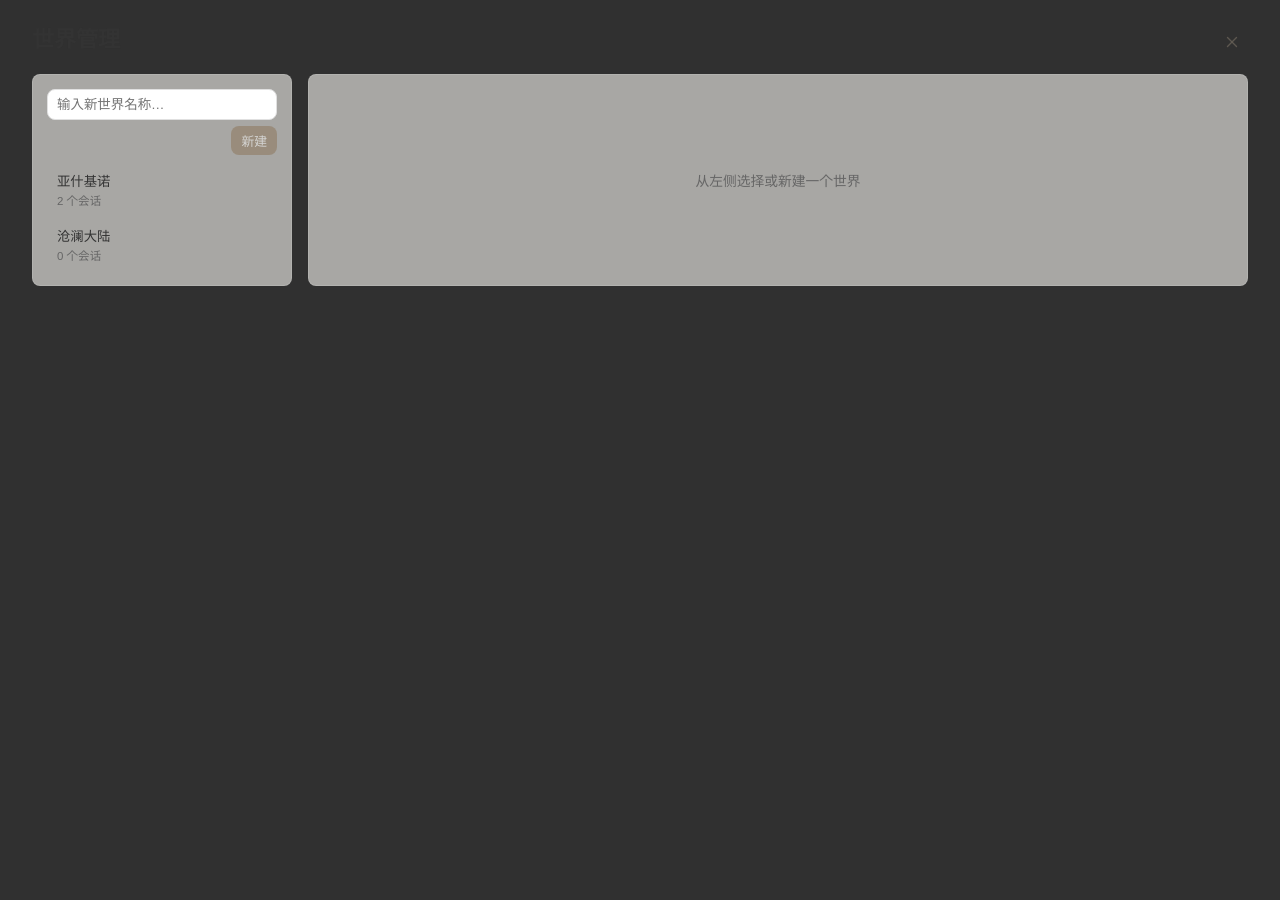
Test: WorldManagerSection › 已挂会话显示名兜底：不在 chatSessionRows 里时退到 chatStore 实体 title，仍无则用「未命名会话」文案
The image size is (1280, 900).
Step 1. Click the button with class "wm-list-item" showing "亚什基诺 2 个会话" → click(162, 190), box [47,163,277,216]
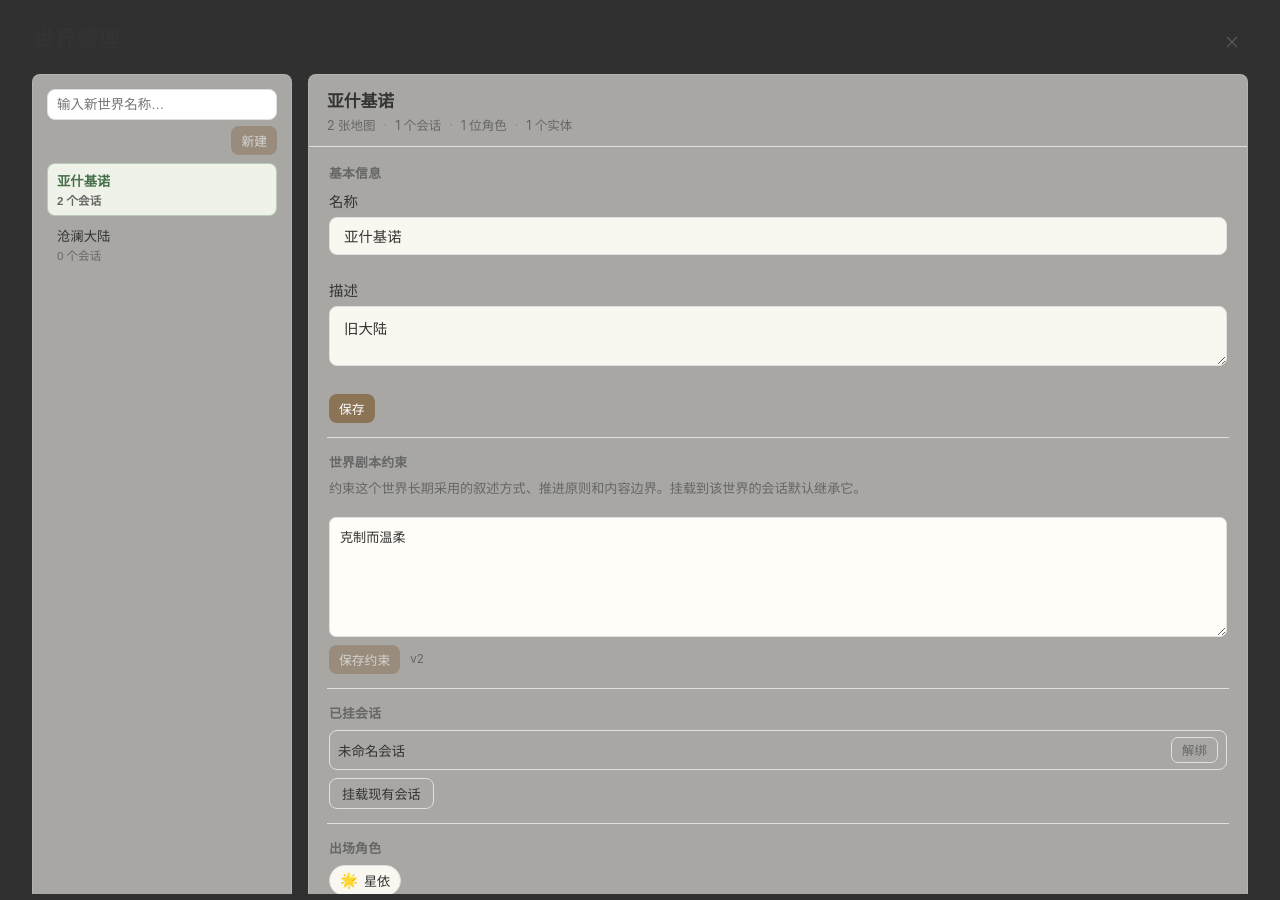
Now the list item with class "wm-session-row" shows "未命名会话", box [338,743,405,759]
